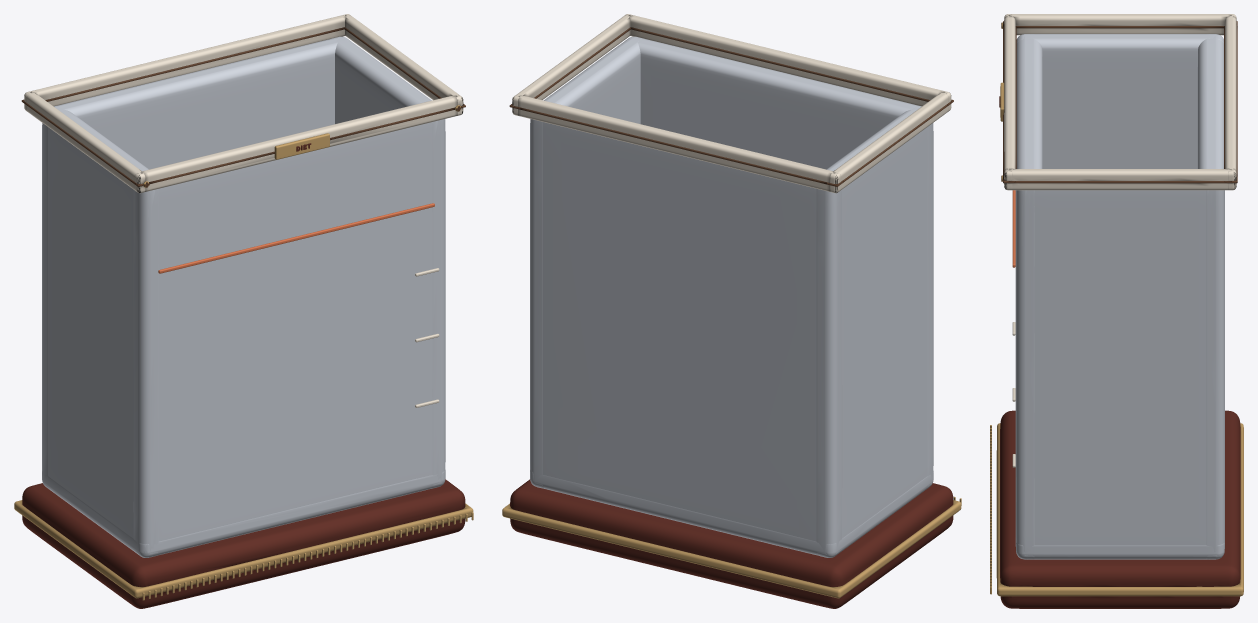
The model's file is jar.glb.
The picture shows the model from 3 angles, left to right: view 1: azimuth 30°, elevation 25°; view 2: azimuth 150°, elevation 25°; view 3: azimuth 270°, elevation 25°; orthographic projection.
Visible parts, largest first — view 1: wallFront, wallL, wallBack, plinth, wallR, collarB, collarF, floor, band, collarL, collarR, targetBar (+3 smaller); view 2: wallBack, wallL, wallFront, plinth, wallR, collarB, collarF, floor, band, collarL, collarR, collarBSeam (+1 smaller); view 3: wallR, wallL, plinth, wallFront, wallBack, collarR, collarL, band, floor, collarF, collarB, collarRSeam (+3 smaller).
Part boxes in pixels (box(x1,y1,x2,y2)): wallFront: box(133, 119, 445, 557); wallL: box(42, 105, 159, 557); wallBack: box(42, 36, 349, 489); plinth: box(22, 479, 465, 608); wallR: box(331, 36, 445, 488); collarB: box(24, 14, 350, 111); collarF: box(134, 94, 463, 192); floor: box(42, 470, 445, 557); band: box(14, 500, 473, 598); collarL: box(24, 91, 145, 193); collarR: box(344, 14, 463, 115); targetBar: box(158, 203, 434, 273); wallBack: box(530, 119, 842, 557); wallL: box(816, 105, 933, 557); wallFront: box(625, 36, 933, 489); plinth: box(510, 479, 953, 608); wallR: box(530, 36, 644, 488); collarB: box(512, 94, 840, 192); collarF: box(624, 14, 951, 111); floor: box(530, 470, 933, 557); band: box(502, 500, 961, 598); collarL: box(830, 91, 948, 193); collarR: box(512, 14, 631, 115); collarBSeam: box(509, 104, 843, 186); wallR: box(1015, 190, 1224, 559); wallL: box(1016, 34, 1223, 168); plinth: box(1000, 410, 1240, 608); wallFront: box(1015, 34, 1042, 559); wallBack: box(1197, 34, 1224, 559); collarR: box(1004, 169, 1236, 190); collarL: box(1004, 14, 1236, 35); band: box(996, 423, 1243, 596); floor: box(1015, 539, 1224, 559); collarF: box(1004, 14, 1015, 190); collarB: box(1225, 14, 1236, 190); collarRSeam: box(1003, 176, 1237, 183).
Size of the model in its own units: 0.7494 by 0.9235 by 0.4839.
